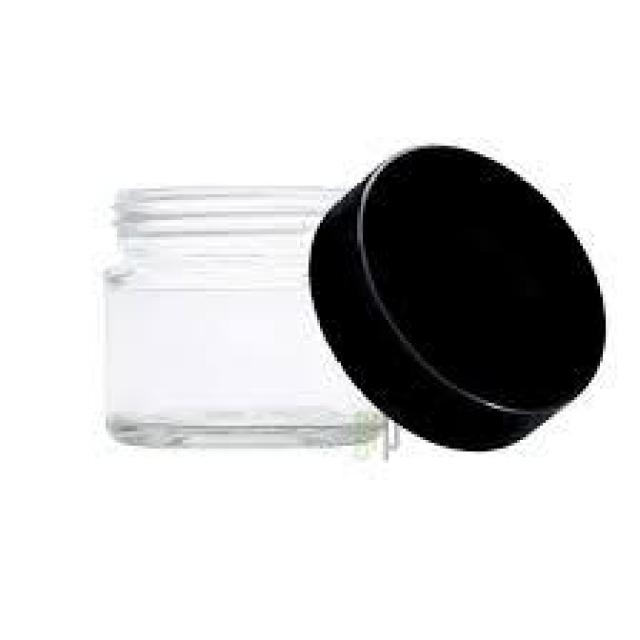non-organic waste: (103, 178, 397, 453)
